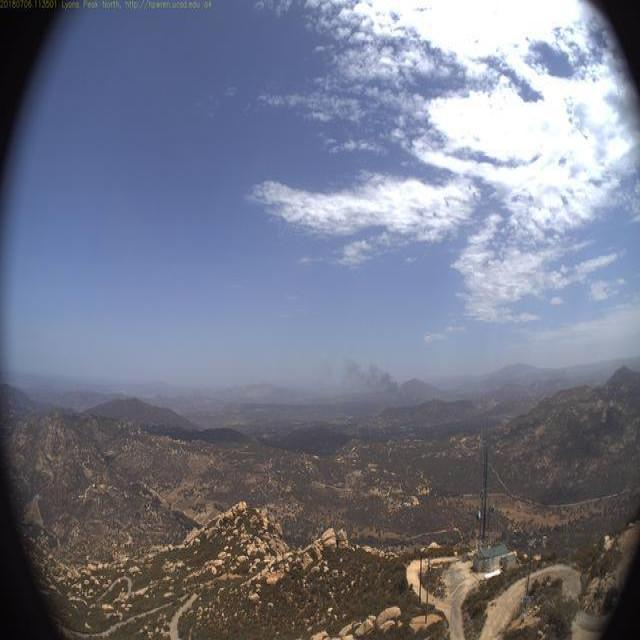smoke: (336, 351, 440, 421)
